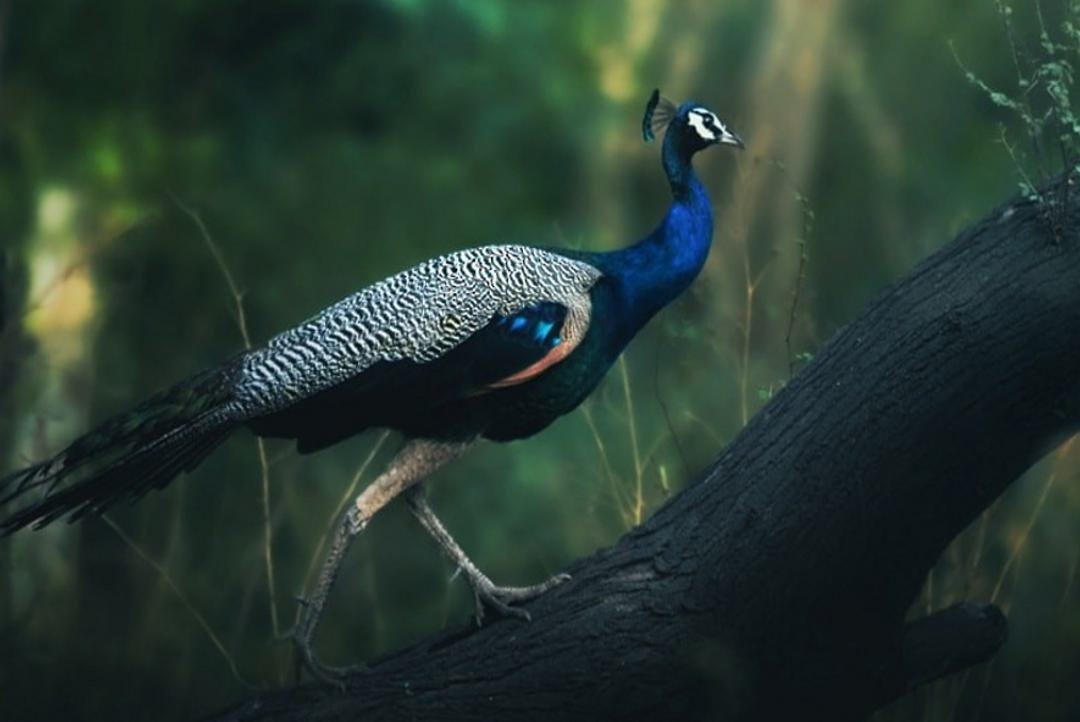peacock: (187, 86, 768, 547)
